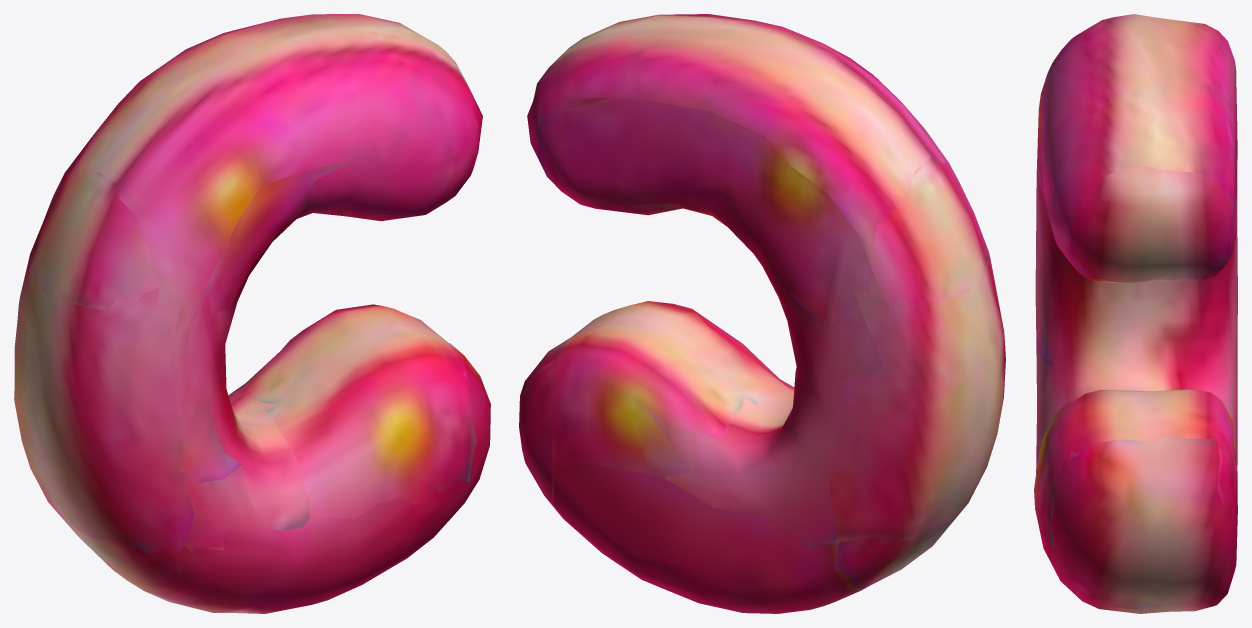
3 renders of one model, left to right at view 1: azimuth 30°, elevation 25°; view 2: azimuth 150°, elevation 25°; view 3: azimuth 270°, elevation 25°, orthographic.
Parts seen in each view (by area): view 1: Candy-Letter-C; view 2: Candy-Letter-C; view 3: Candy-Letter-C.
Part boxes in pixels (<box>): Candy-Letter-C: <box>14,14,490,613</box>; Candy-Letter-C: <box>519,14,1005,613</box>; Candy-Letter-C: <box>1034,14,1237,613</box>.
Bounding box in the file's own units: 0.2669 × 0.3219 × 0.1075.
Materials: 1 (1 with a texture image).
